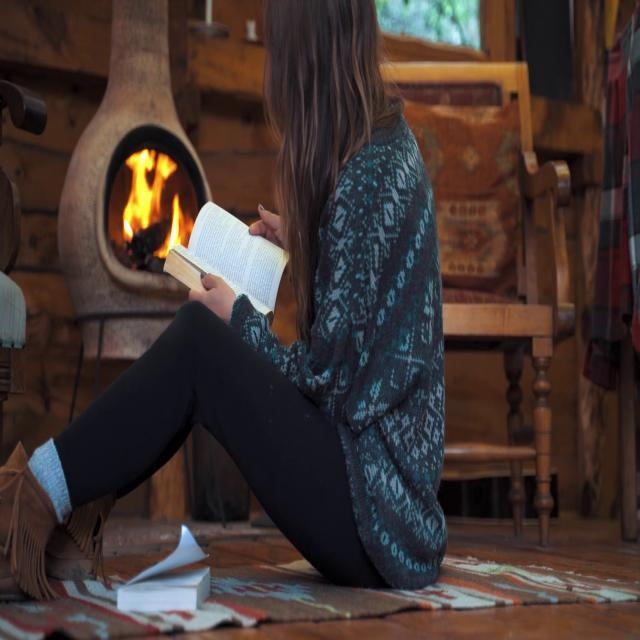Fire: (120, 147, 186, 258)
